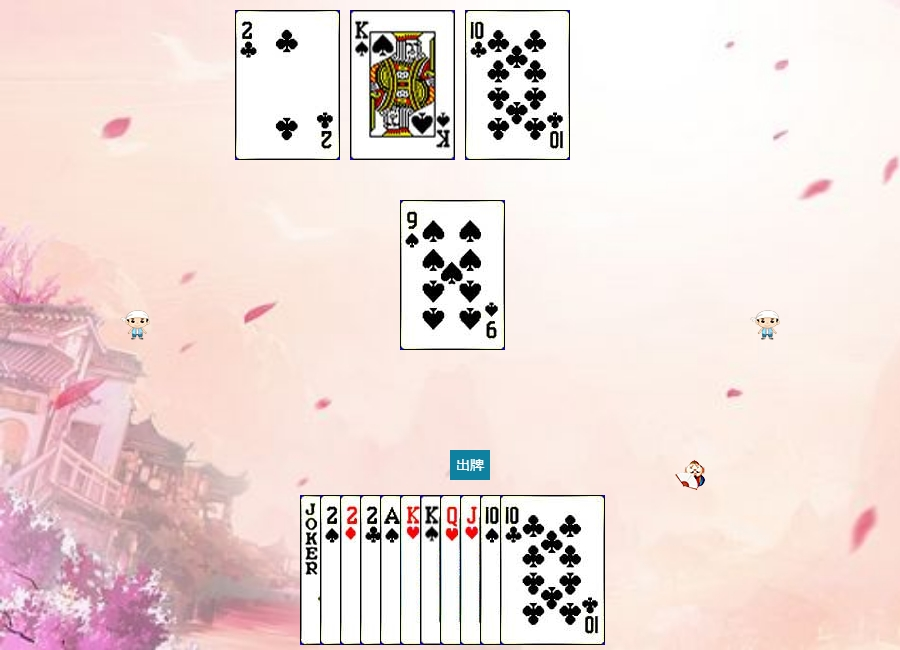10~2: (465, 10, 570, 160), (500, 495, 605, 645)
10~4: (480, 495, 585, 645)
11~3: (460, 495, 565, 645)
12~3: (440, 495, 545, 645)
13~3: (400, 495, 505, 645)
13~4: (350, 10, 455, 160), (420, 495, 525, 645)
14~4: (380, 495, 485, 645)
15~1: (340, 495, 445, 645)
15~2: (235, 10, 340, 160), (360, 495, 465, 645)
15~4: (320, 495, 425, 645)
17~3: (300, 495, 405, 645)
9~4: (400, 200, 505, 350)
